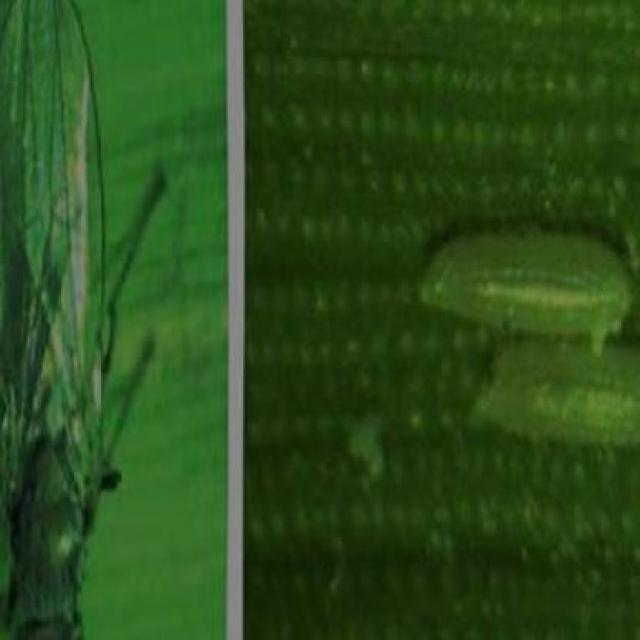whorl-maggot: (413, 215, 636, 340), (474, 344, 640, 450)
